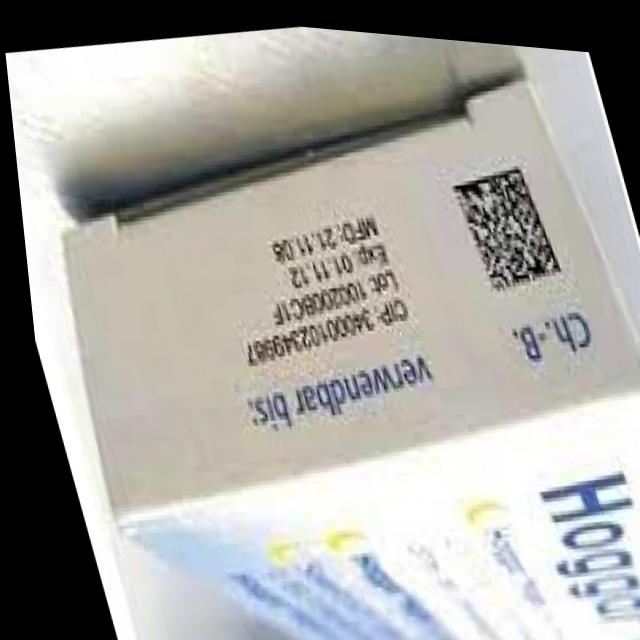datamatrix: (434, 123, 569, 298)
